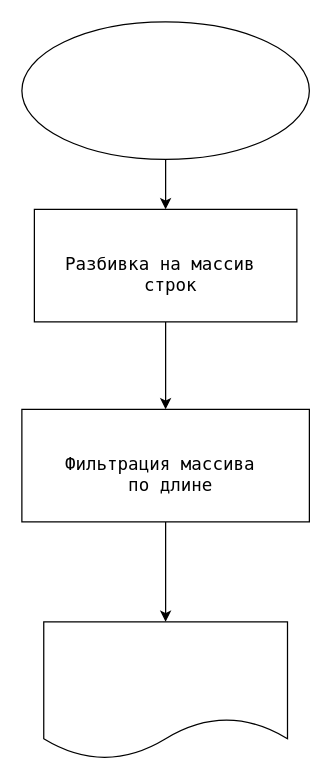
Some shapes in this 331 by 781 pixel diagram are drawn without their labels. The centre of each missing label's shape, as x and y in pixels:
"Ввод элементов массива" belongs at point (165, 90).
"Вывод результата" belongs at point (165, 690).
